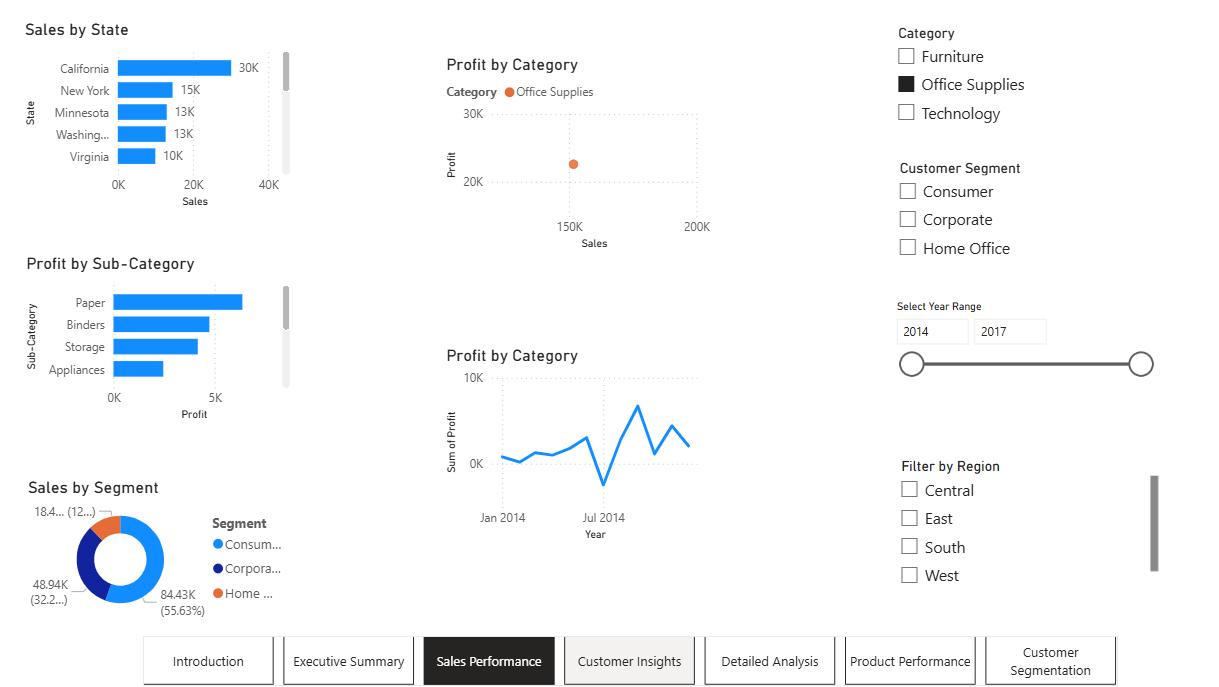

Layout of this report page (visuals, bound fields, positions):
{"tool":"powerbi","page":{"name":"Sales Performance","canvas":[1280,720],"ordinal":2},"visuals":[{"type":"clusteredBarChart","title":"Sales by State","fields":{"Category":["sales_dashboard sales.State"],"Y":["Sum(sales_dashboard sales.Sales)"]},"box":[27.7,26.2,281.5,196.9],"z":0},{"type":"clusteredBarChart","title":"Profit by Sub-Category","fields":{"Y":["Sum(sales_dashboard sales.Profit)"],"Category":["sales_dashboard sales.Sub-Category"]},"box":[29.2,266.2,280,175.4],"z":1000},{"type":"donutChart","title":"Sales by Segment","fields":{"Category":["sales_dashboard sales.Segment"],"Y":["Sum(sales_dashboard sales.Sales)"]},"box":[30.8,495.4,280,149.2],"z":2000},{"type":"scatterChart","title":"Profit by Category","fields":{"X":["Sum(sales_dashboard sales.Sales)"],"Y":["Sum(sales_dashboard sales.Profit)"],"Series":["sales_dashboard sales.Category"]},"box":[460.3,62.1,280.1,204.4],"z":3000},{"type":"slicer","fields":{"Values":["sales_dashboard sales.Region"]},"box":[918.5,470.8,281.5,138.5],"z":4000},{"type":"slicer","fields":{"Values":["sales_dashboard sales.Category"]},"box":[915.4,26.2,283.1,121.5],"z":5000},{"type":"slicer","fields":{"Values":["sales_dashboard sales.Segment"]},"box":[916.9,164.6,283.1,115.4],"z":6000},{"type":"slicer","fields":{"Values":["sales_dashboard sales.Year"]},"box":[913.8,309.2,284.6,120],"z":7000},{"type":"lineChart","title":"Profit by Category","fields":{"Category":["sales_dashboard sales.Order Date.Variation.Date Hierarchy.Year","sales_dashboard sales.Order Date.Variation.Date Hierarchy.Month"],"Y":["Sum(sales_dashboard sales.Profit)"]},"box":[460.3,360.4,280.1,204.4],"z":8000},{"type":"pageNavigator","box":[152.3,669.2,1000,50.8],"z":8001}]}

Visuals, with their boxes in screenshot pixels (x1, y1, x2, y2), scaled from the page's 1280x720 canvas onto the 1219x687 screenshot:
"Sales by State" clusteredBarChart: <box>26,25,294,213</box>
"Profit by Sub-Category" clusteredBarChart: <box>28,254,294,421</box>
"Sales by Segment" donutChart: <box>29,473,296,615</box>
"Profit by Category" scatterChart: <box>438,59,705,254</box>
slicer - sales_dashboard sales.Region: <box>875,449,1143,581</box>
slicer - sales_dashboard sales.Category: <box>872,25,1141,141</box>
slicer - sales_dashboard sales.Segment: <box>873,157,1143,267</box>
slicer - sales_dashboard sales.Year: <box>870,295,1141,410</box>
"Profit by Category" lineChart: <box>438,344,705,539</box>
pageNavigator: <box>145,639,1097,686</box>
